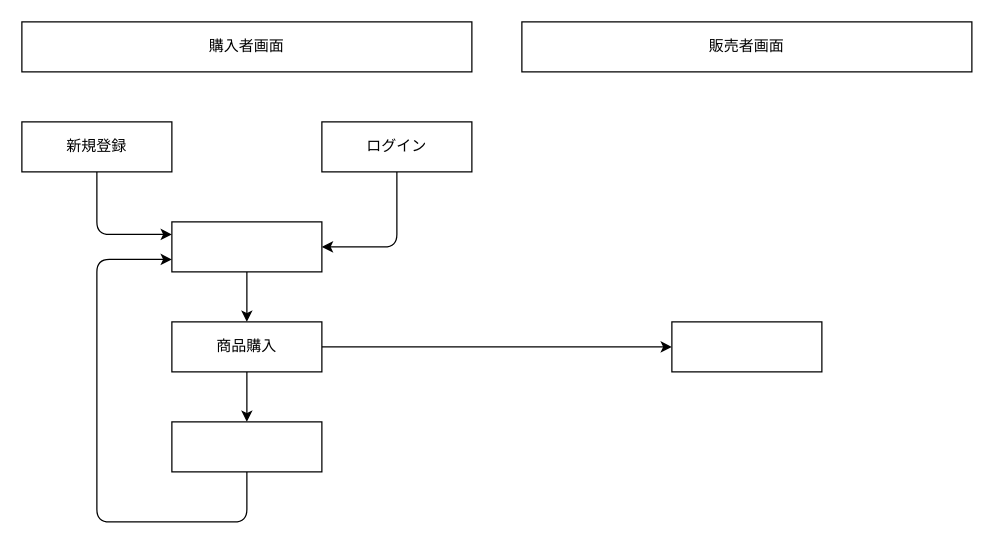
Image size: 994x554. Some labels were removed from this diagram. The box of each missing label's shape, as (x1, y1, x2, y2) in pixels:
オーダー一覧: (671, 321, 822, 372)
商品一覧: (171, 221, 322, 272)
購入履歴: (171, 421, 322, 472)
